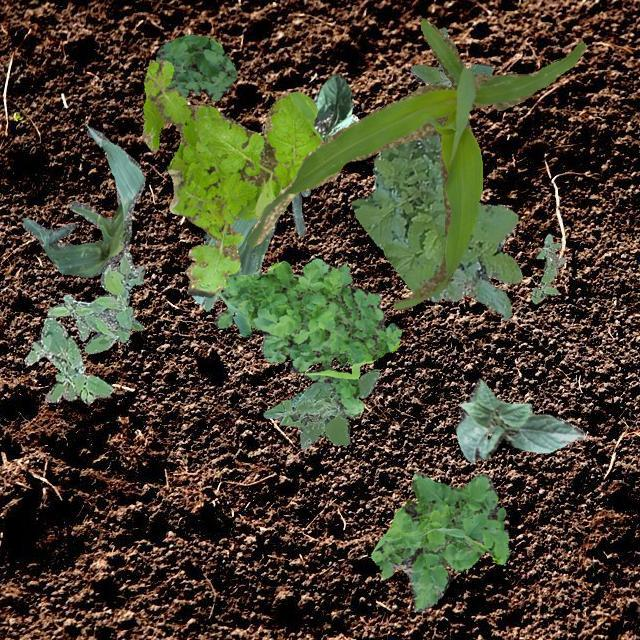crop: (245, 18, 586, 308), (22, 126, 144, 276), (190, 188, 310, 310), (454, 378, 584, 462), (312, 74, 358, 140)
weed: (140, 58, 322, 296), (196, 258, 400, 416), (350, 133, 522, 320), (370, 470, 508, 610), (46, 252, 144, 352), (262, 368, 378, 448), (22, 316, 112, 402), (154, 34, 236, 100), (410, 26, 492, 86), (528, 232, 564, 302)
